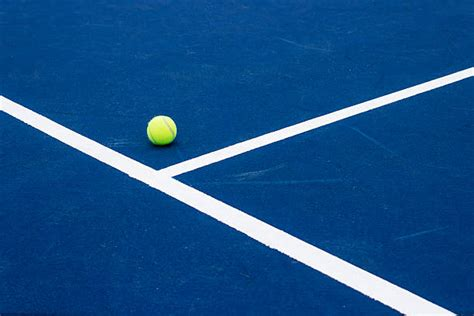tennis_ball: (146, 115, 177, 146)
